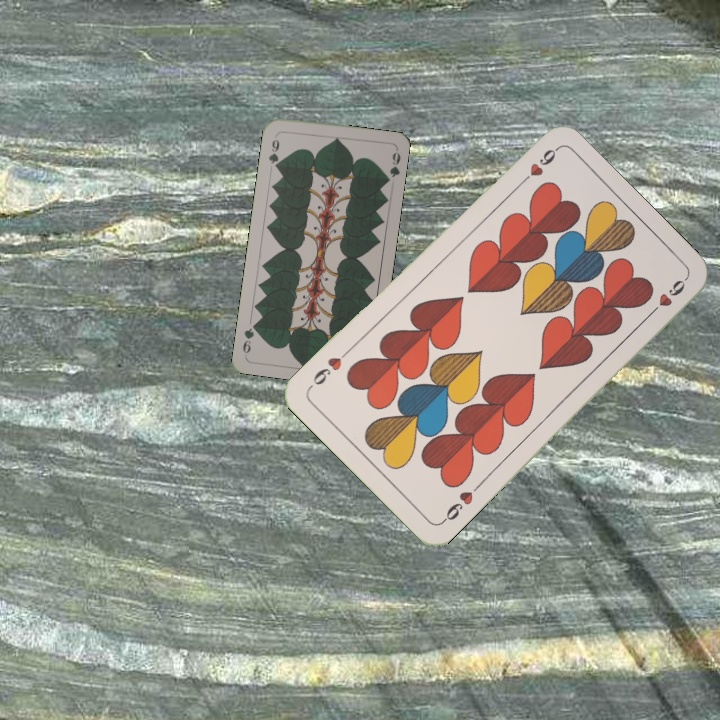G9: (264, 130, 282, 171)
H9: (437, 480, 484, 526), (513, 144, 560, 190)
